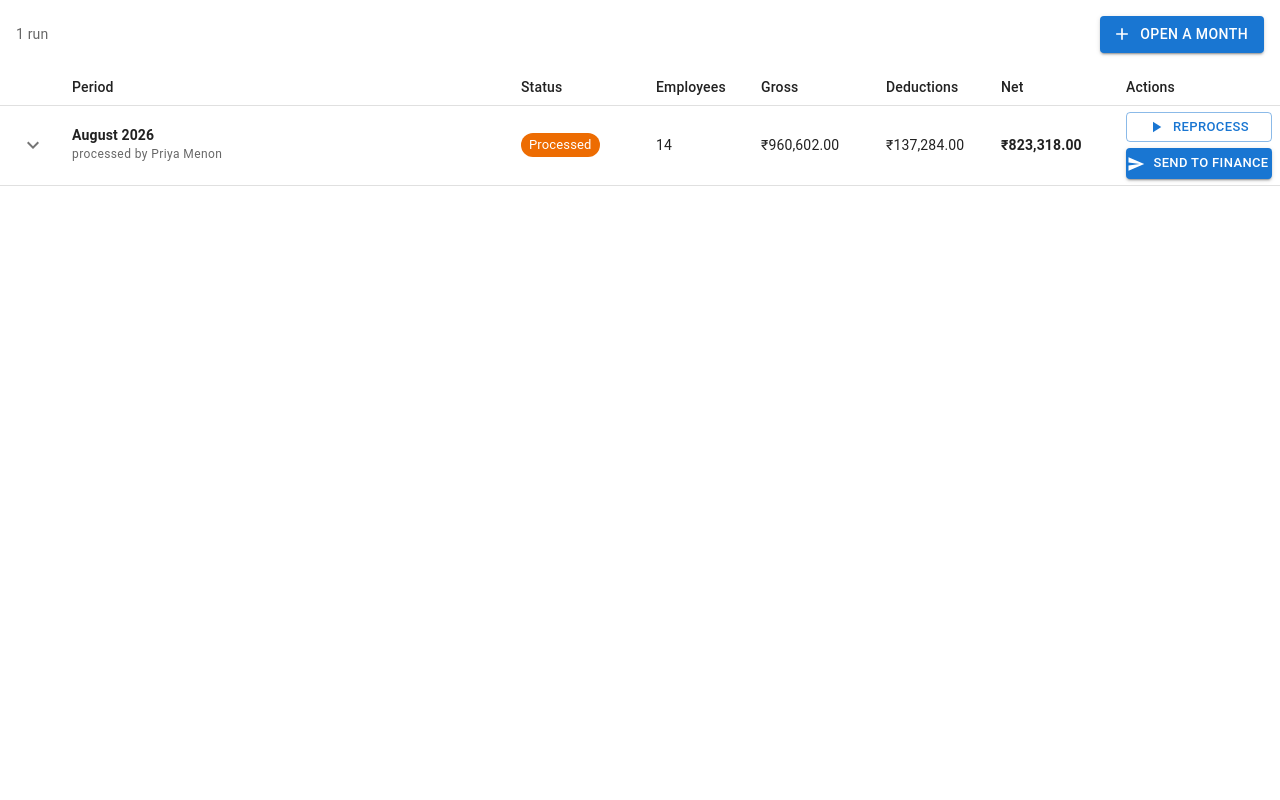
PayrollRunsTab › keeps the month and says why if the figures cannot be worked out
This screenshot has width=1280, height=800.
What coordinates should you click on to do the following:
click the button "Open a month"
I would click on:
 (1182, 34)
Its box is [1100,16,1264,52].
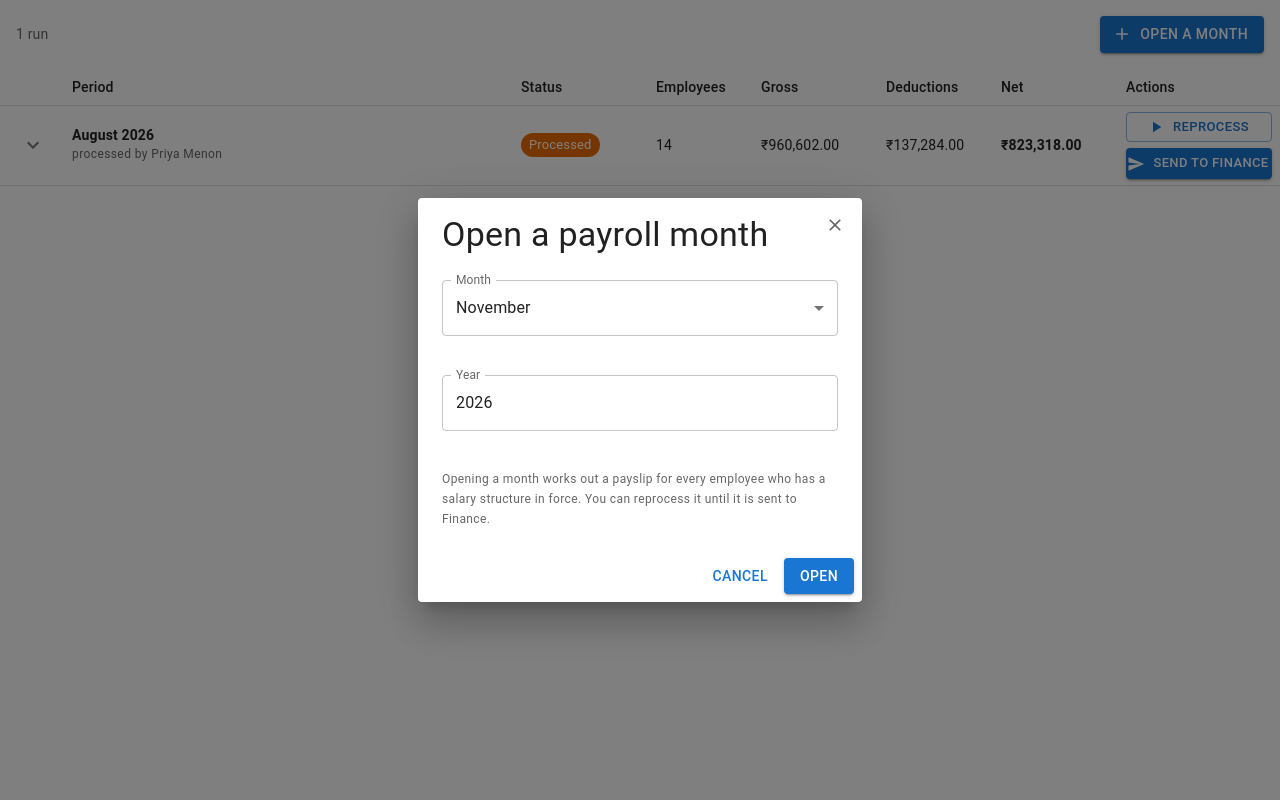
What coordinates should you click on to do the following:
click the button "Open"
I would click on:
 (819, 576)
Its box is [784,558,854,594].
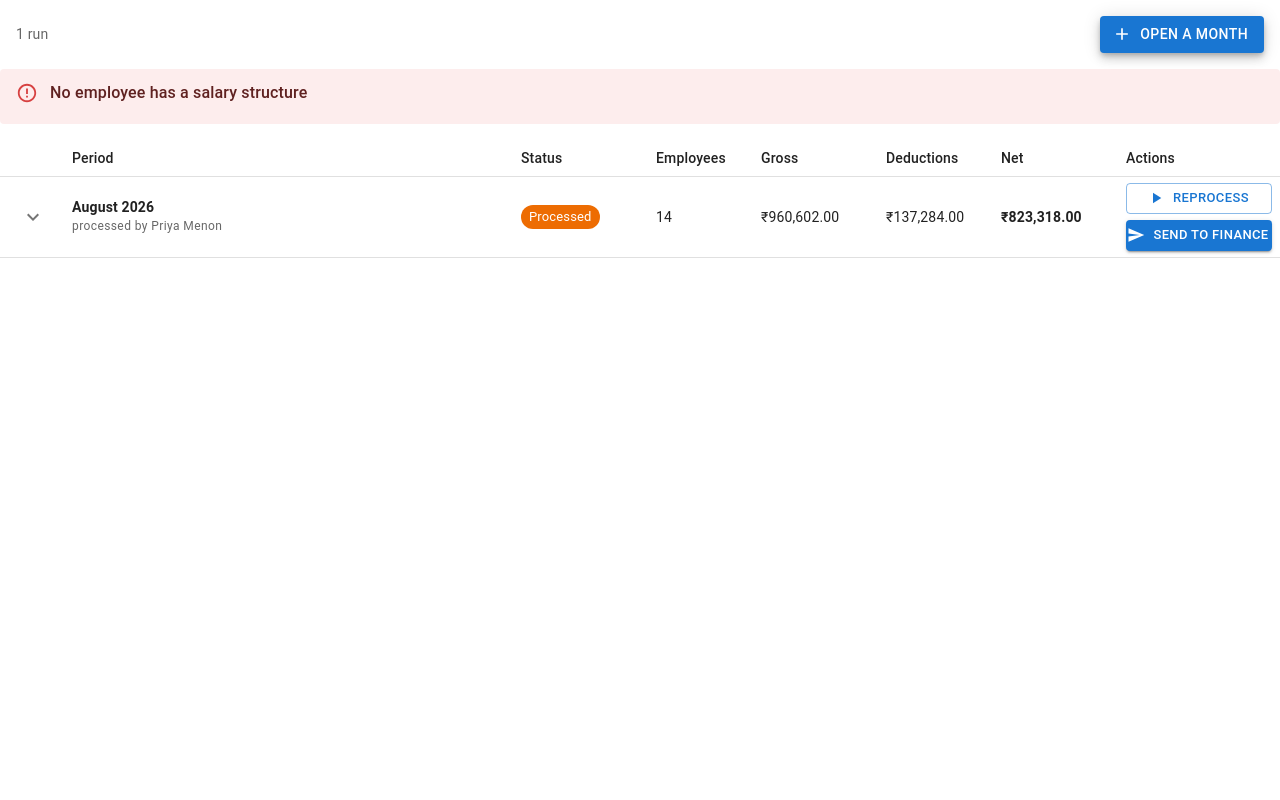
Result: the message "No employee has a salary structure" is shown at [0,68,1279,124]
